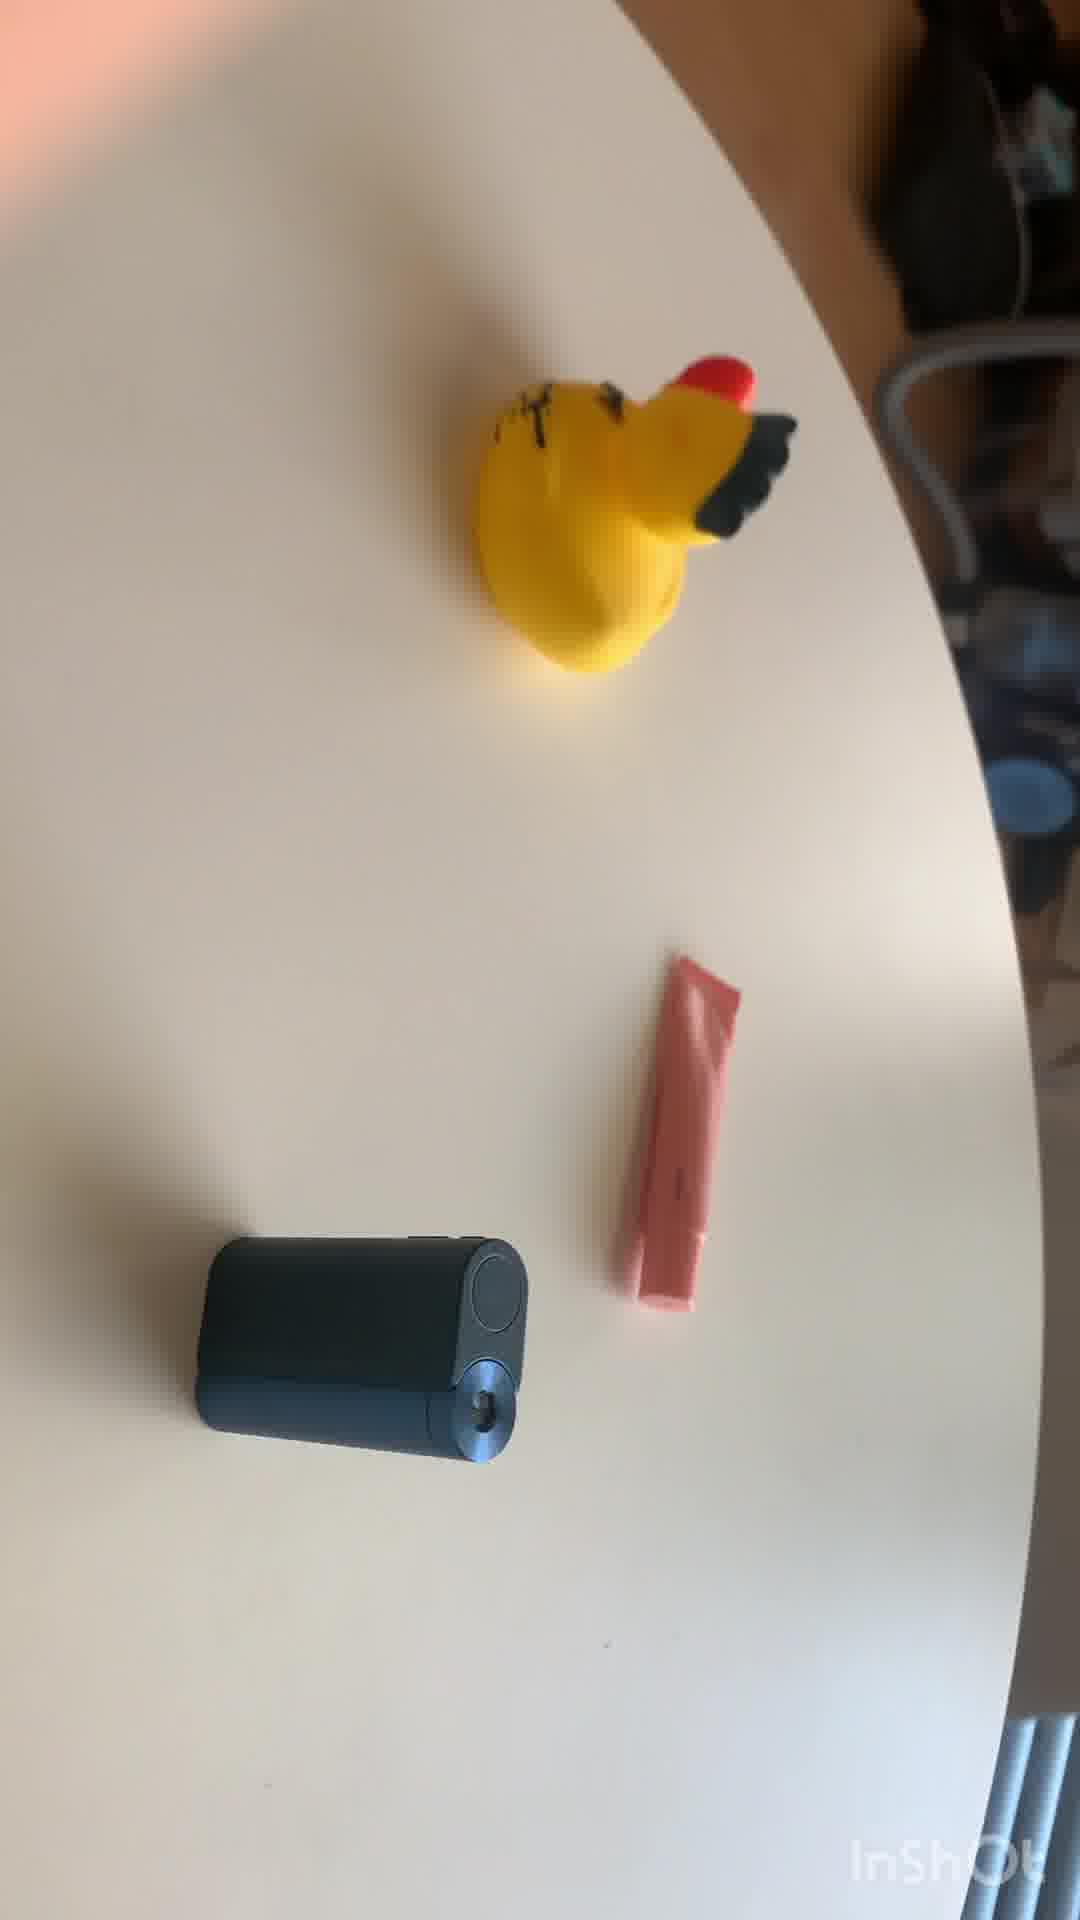duck: (451, 349, 795, 690)
glo: (193, 1232, 531, 1476)
lip balm: (608, 959, 744, 1313)
